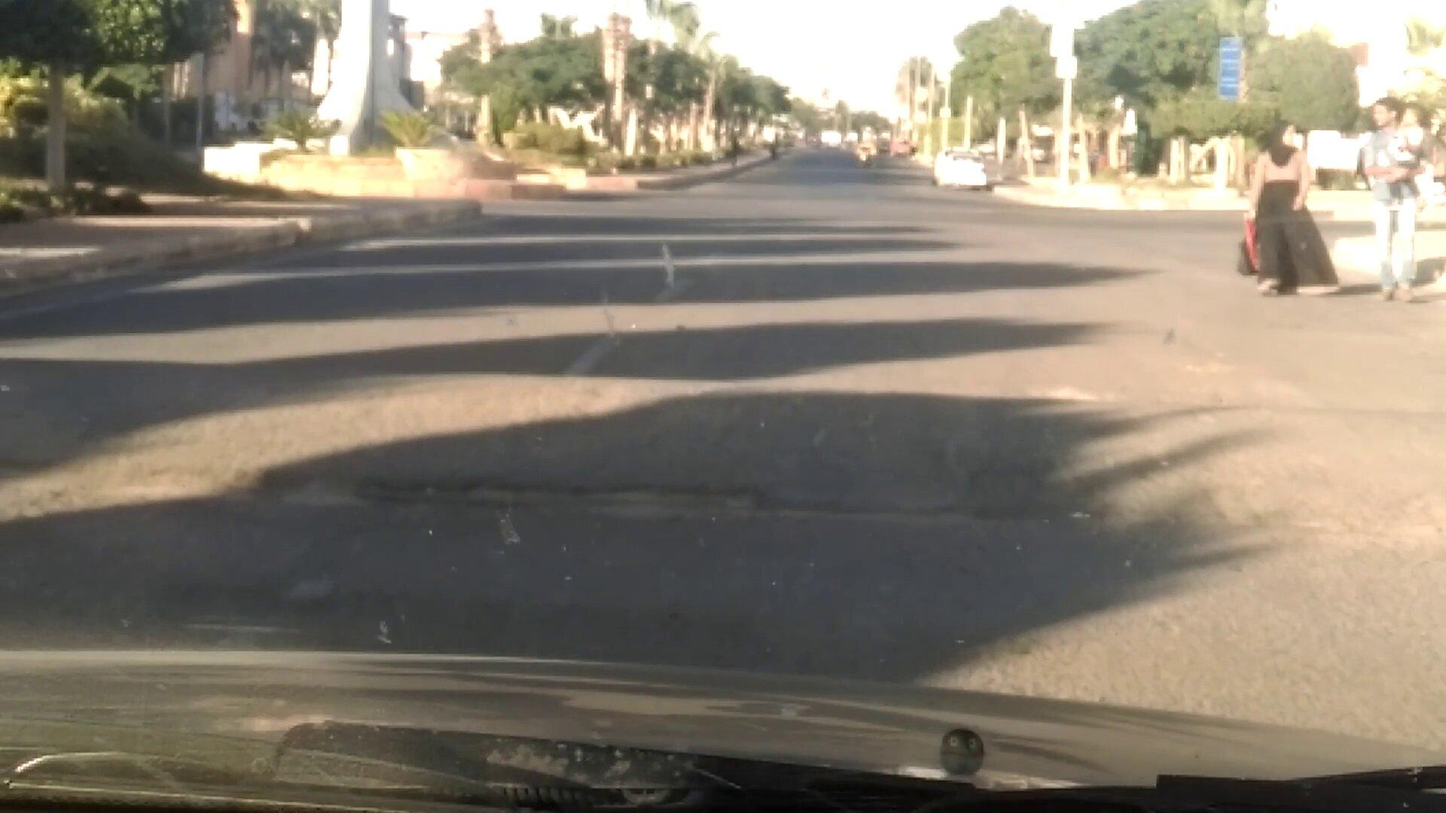Pothole: (420, 459, 1231, 570)
